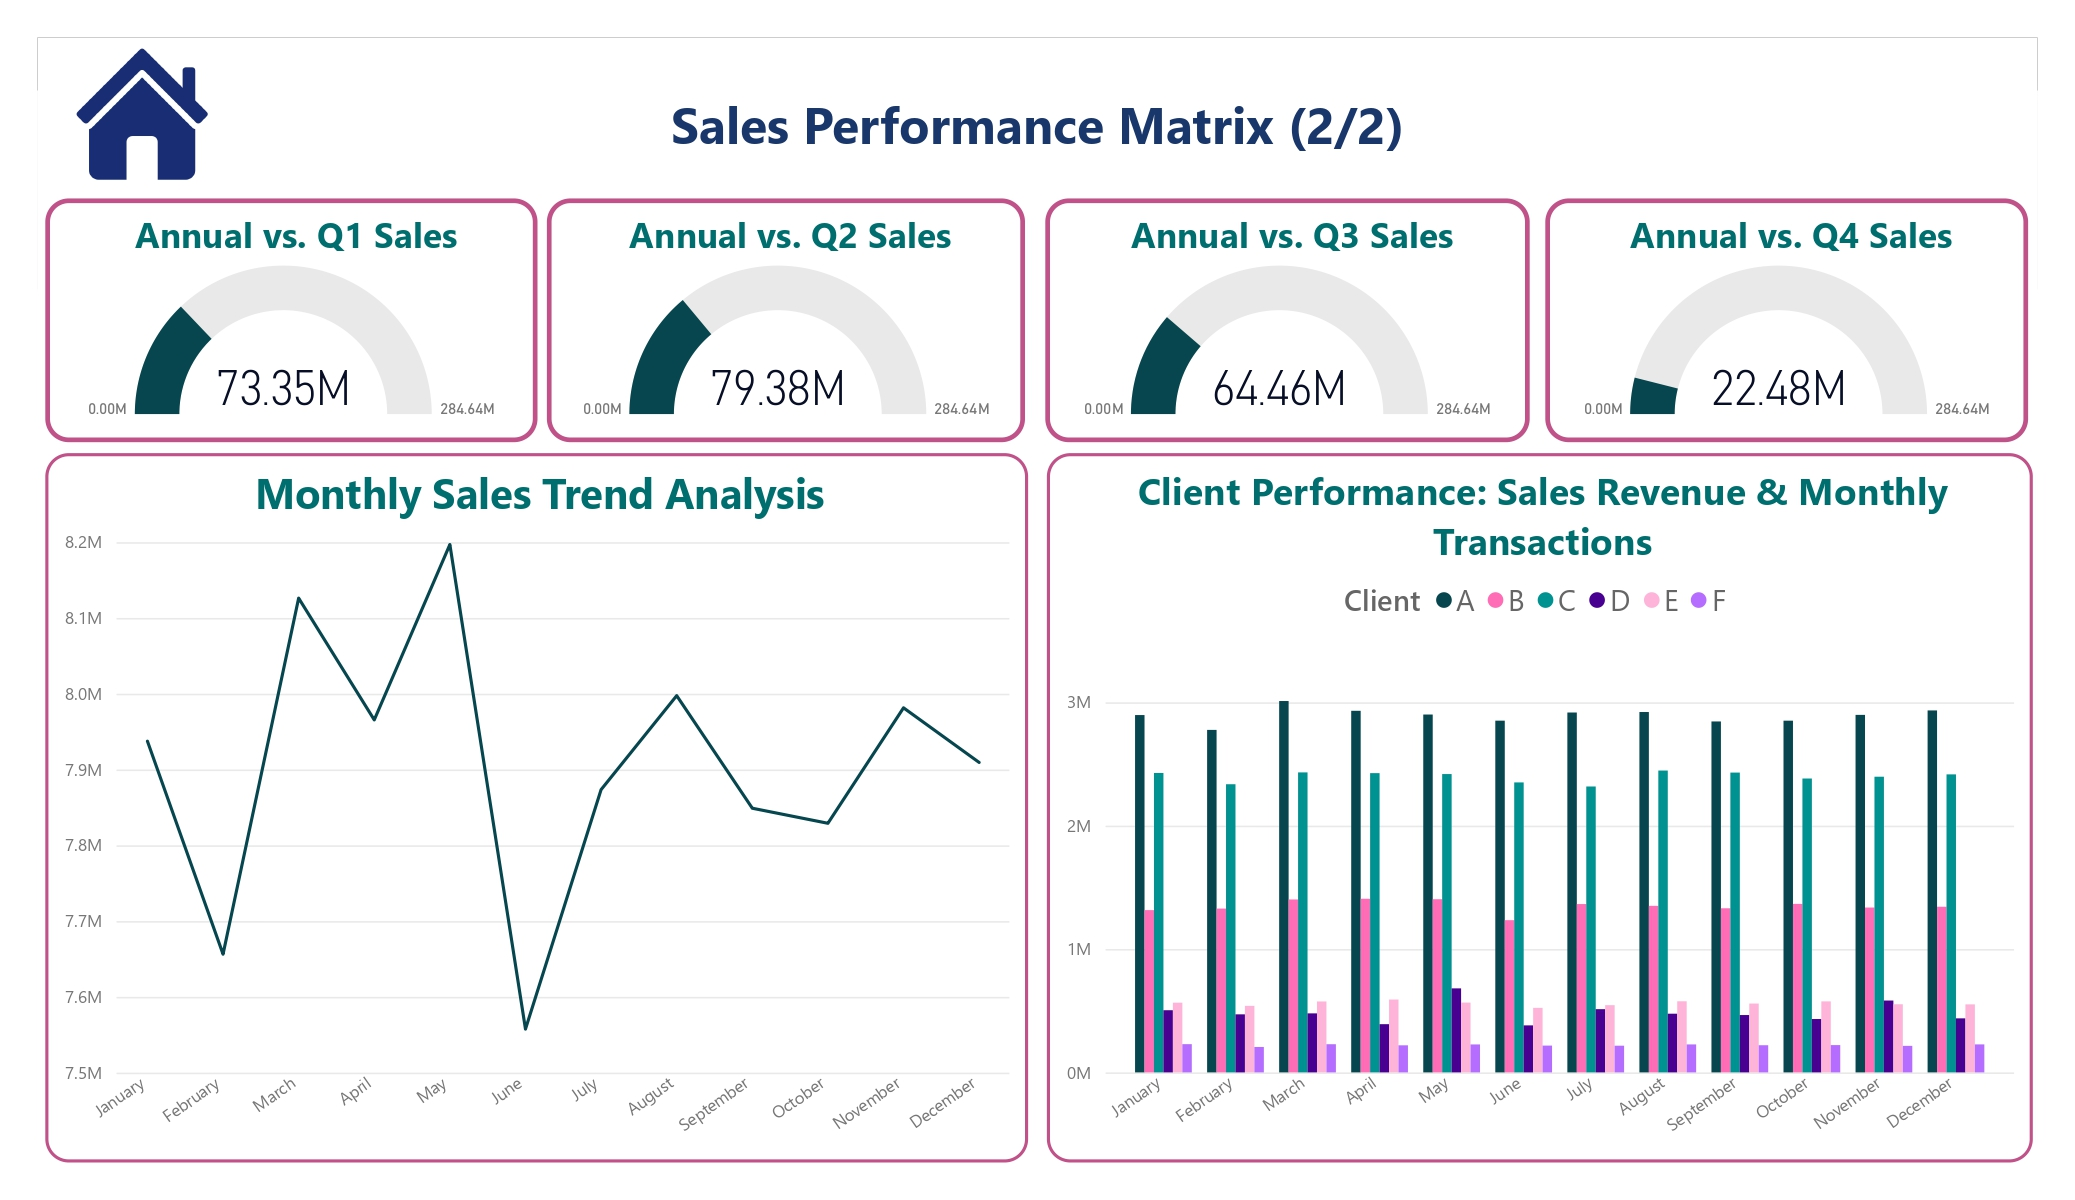

The page's visual inventory and layout, read from the dashboard file:
{"tool":"powerbi","page":{"name":"Page 2","canvas":[1280,720],"ordinal":1},"visuals":[{"type":"clusteredColumnChart","title":"Client Performance: Sales Revenue & Monthly Transactions","fields":{"Category":["Table 1 (Sales Trend).FullMonthName"],"Y":["Sum(Table 1 (Sales Trend).Sales)"],"Series":["Table 1 (Sales Trend).Client"]},"box":[646.1,266.4,630.8,453.2],"z":0},{"type":"gauge","title":"Annual vs. Q1 Sales","fields":{"MaxValue":["Sum(Table 1 (Sales Trend).Year Total)"],"Y":["Sum(Table 1 (Sales Trend).Q1 Total Value)"]},"box":[4.6,102.6,315.4,156.2],"z":1000},{"type":"gauge","title":"Annual vs. Q2 Sales","fields":{"MaxValue":["Sum(Table 1 (Sales Trend).Year Total)"],"Y":["Sum(Table 1 (Sales Trend).Q2 Total Value)"]},"box":[326.1,102.6,306.2,156.2],"z":2000},{"type":"gauge","title":"Annual vs. Q3 Sales ","fields":{"MaxValue":["Sum(Table 1 (Sales Trend).Year Total)"],"Y":["Sum(Table 1 (Sales Trend).Q3)"]},"box":[644.6,102.6,310.8,156.2],"z":3000},{"type":"gauge","title":"Annual vs. Q4 Sales ","fields":{"MaxValue":["Sum(Table 1 (Sales Trend).Year Total)"],"Y":["Sum(Table 1 (Sales Trend).Q4 Sales)"]},"box":[964.6,102.6,309.3,156.2],"z":4000},{"type":"textbox","box":[0,0,1280,57.4],"z":5000},{"type":"image","box":[16.8,0,99.5,98],"z":6000},{"type":"actionButton","box":[0,1.5,128.6,96.5],"z":7000},{"type":"lineChart","title":"Monthly Sales Trend Analysis","fields":{"Y":["Sum(Table 1 (Sales Trend).Sales)"],"Category":["Table 1 (Sales Trend).FullMonthName"]},"box":[4.6,266.4,629.3,453.2],"z":8000},{"type":"shape","box":[376.1,67.6,25.5,25.5],"z":9000},{"type":"textbox","box":[406.7,57.4,170.8,43.3],"z":10000},{"type":"shape","box":[668,67.6,25,25.5],"z":11000},{"type":"textbox","box":[701.2,57.4,198.9,61.2],"z":12000},{"type":"textbox","box":[64.3,194.4,64.3,39.8],"z":14000},{"type":"textbox","box":[180.7,154.6,64.3,39.8],"z":15000},{"type":"textbox","box":[376.7,194.4,64.3,39.8],"z":16000},{"type":"textbox","box":[497.6,154.6,64.3,39.8],"z":17000},{"type":"textbox","box":[702.8,192.9,64.3,39.8],"z":18000},{"type":"textbox","box":[819.1,155.4,64.3,39.8],"z":19000},{"type":"textbox","box":[1016.7,214.4,64.3,39.8],"z":20000},{"type":"textbox","box":[1137.6,154.6,64.3,39.8],"z":21000},{"type":"actionButton","box":[0,0,146.3,102.5],"z":21001}]}

Visuals, with their boxes in screenshot pixels (x1, y1, x2, y2):
"Client Performance: Sales Revenue & Monthly Transactions" clusteredColumnChart: x1=1047, y1=454, x2=2033, y2=1162
"Annual vs. Q1 Sales" gauge: x1=45, y1=198, x2=538, y2=442
"Annual vs. Q2 Sales" gauge: x1=547, y1=198, x2=1025, y2=442
"Annual vs. Q3 Sales " gauge: x1=1045, y1=198, x2=1530, y2=442
"Annual vs. Q4 Sales " gauge: x1=1545, y1=198, x2=2028, y2=442
textbox: x1=38, y1=38, x2=2038, y2=127
image: x1=64, y1=38, x2=219, y2=191
actionButton: x1=38, y1=40, x2=238, y2=191
"Monthly Sales Trend Analysis" lineChart: x1=45, y1=454, x2=1028, y2=1162
shape: x1=625, y1=143, x2=665, y2=183
textbox: x1=673, y1=127, x2=940, y2=195
shape: x1=1081, y1=143, x2=1120, y2=183
textbox: x1=1133, y1=127, x2=1444, y2=223
textbox: x1=138, y1=341, x2=238, y2=403
textbox: x1=320, y1=279, x2=420, y2=341
textbox: x1=626, y1=341, x2=727, y2=403
textbox: x1=815, y1=279, x2=915, y2=341
textbox: x1=1136, y1=339, x2=1236, y2=401
textbox: x1=1317, y1=280, x2=1418, y2=342
textbox: x1=1626, y1=372, x2=1727, y2=435
textbox: x1=1815, y1=279, x2=1915, y2=341
actionButton: x1=38, y1=38, x2=266, y2=198
